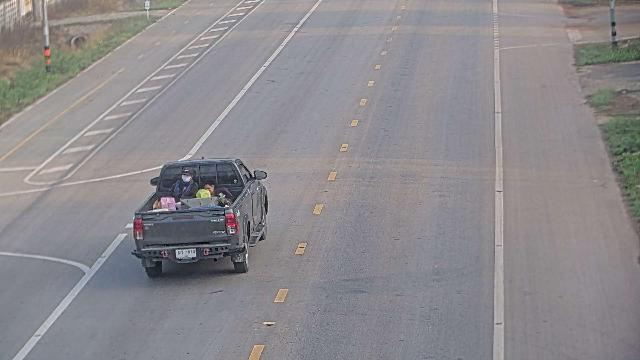pickup-truck: (130, 156, 269, 277)
